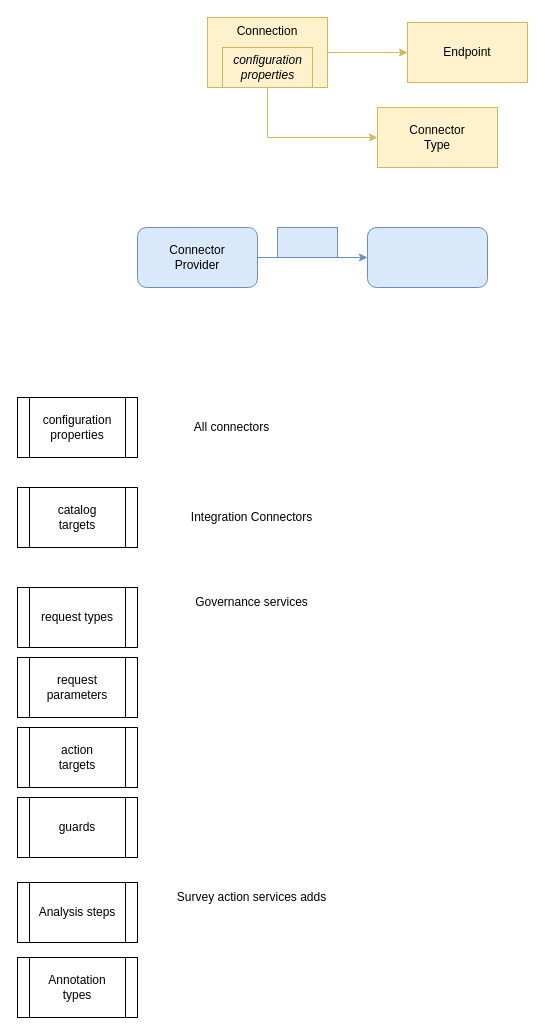
Some shapes in this 545 by 1035 pixel diagram are drawn without their labels. The centre of each missing label's shape, as x and y in pixels:
Conector: point 427,257
create: point 307,242
